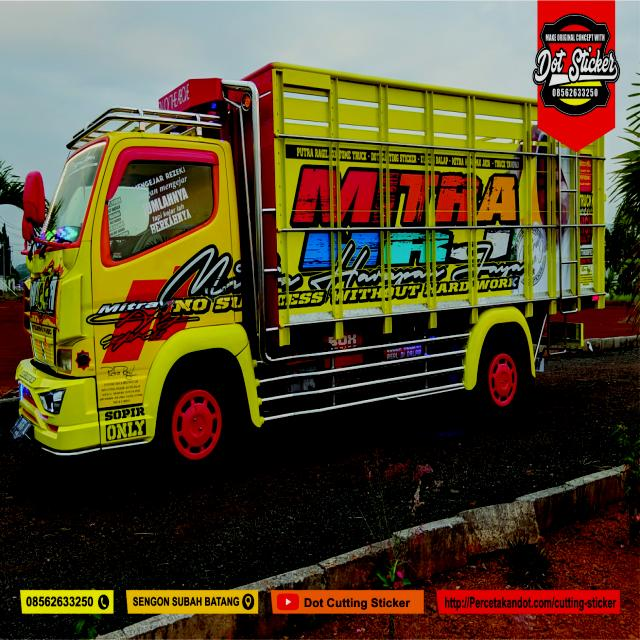truck: (12, 65, 610, 466)
